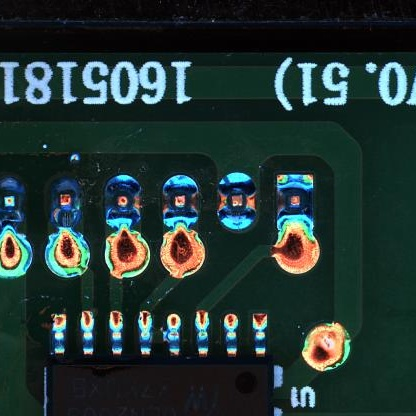spot: (218, 171, 261, 230), (273, 174, 314, 230), (163, 176, 200, 227), (105, 176, 142, 226), (48, 178, 80, 221), (1, 176, 28, 223)
